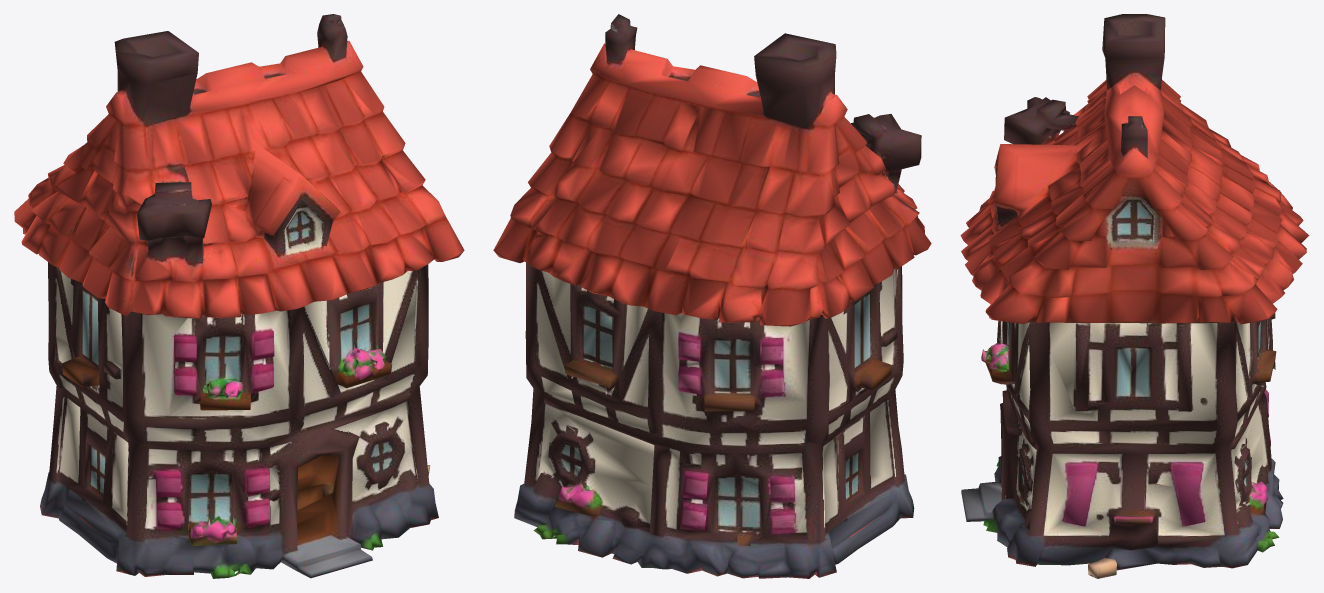
Rendered from house_terra_5.glb.
3 renders of one model, left to right at view 1: azimuth 30°, elevation 25°; view 2: azimuth 150°, elevation 25°; view 3: azimuth 270°, elevation 25°, orthographic. The views are drawn at different scales.
Parts seen in each view (by area): view 1: ЦІЛЬ; view 2: ЦІЛЬ; view 3: ЦІЛЬ.
Part boxes in pixels (bbox=[...]): ЦІЛЬ: bbox=[14, 14, 464, 578]; ЦІЛЬ: bbox=[493, 14, 931, 578]; ЦІЛЬ: bbox=[960, 14, 1309, 578].
Size of the model in its own units: 1.59 by 2.1 by 1.51.
Materials: 1 (1 with a texture image).
